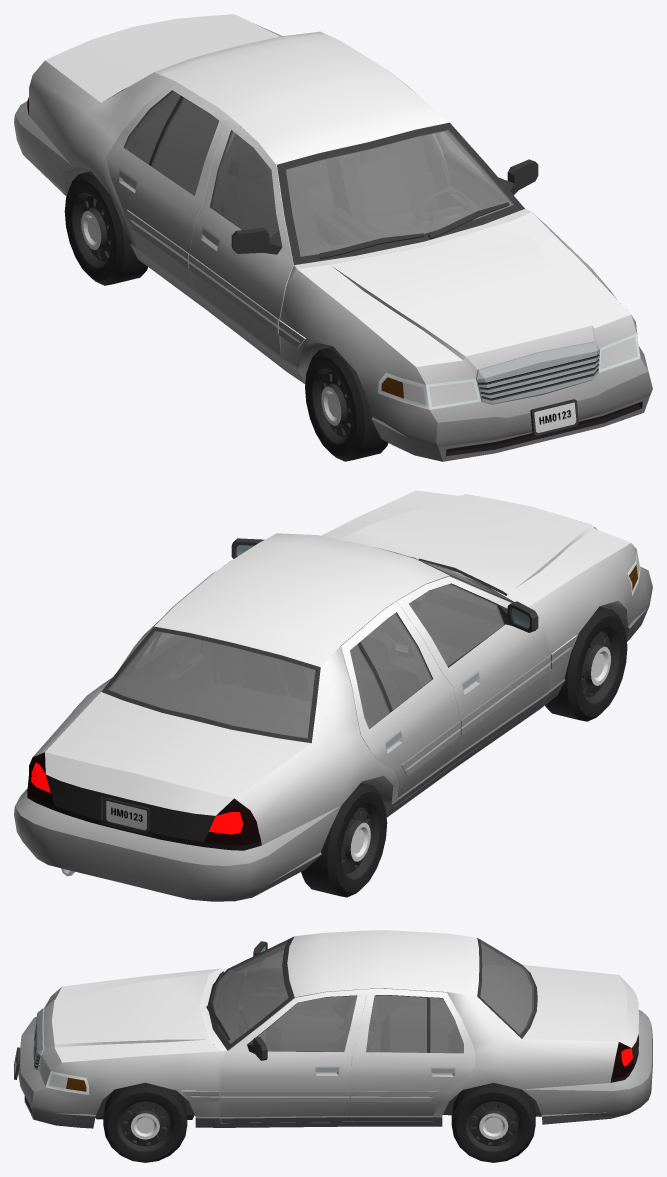
File: carro_sedan_aberto.fbx
3 renders of one model, top to bottom at view 1: azimuth 30°, elevation 25°; view 2: azimuth 150°, elevation 25°; view 3: azimuth 270°, elevation 25°, orthographic. The views are drawn at different scales.
Visible parts, largest first — view 1: Base_Car, Car_hood, CDoor_FR, CDoor_BR, Car_trunk, C_WheelFR, C_Wheels_B, CDoor_FL, Car_Steering_Wheel; view 2: Base_Car, Car_trunk, Car_hood, CDoor_FR, CDoor_BR, C_Wheels_B, C_WheelFR, CDoor_BL; view 3: Base_Car, CDoor_FL, CDoor_BL, Car_hood, Car_trunk, C_WheelFL, C_Wheels_B, CDoor_FR, CDoor_BR.
Part boxes in pixels (left/top/right/bottom): Base_Car: left=14, top=16, right=652, bottom=461; Car_hood: left=297, top=212, right=630, bottom=366; CDoor_FR: left=188, top=118, right=293, bottom=363; CDoor_BR: left=106, top=82, right=230, bottom=296; Car_trunk: left=45, top=14, right=279, bottom=102; C_WheelFR: left=305, top=347, right=388, bottom=461; C_Wheels_B: left=64, top=171, right=148, bottom=285; CDoor_FL: left=399, top=80, right=538, bottom=211; Car_Steering_Wheel: left=415, top=189, right=472, bottom=227; Base_Car: left=14, top=490, right=652, bottom=901; Car_trunk: left=45, top=692, right=310, bottom=846; Car_hood: left=321, top=490, right=630, bottom=604; CDoor_FR: left=396, top=576, right=550, bottom=765; CDoor_BR: left=341, top=602, right=460, bottom=806; C_Wheels_B: left=301, top=783, right=387, bottom=897; C_WheelFR: left=545, top=606, right=627, bottom=721; CDoor_BL: left=134, top=571, right=215, bottom=684; Base_Car: left=14, top=930, right=652, bottom=1128; CDoor_FL: left=220, top=989, right=366, bottom=1122; CDoor_BL: left=350, top=989, right=475, bottom=1121; Car_hood: left=52, top=968, right=219, bottom=1062; Car_trunk: left=522, top=964, right=638, bottom=1067; C_WheelFL: left=103, top=1082, right=187, bottom=1162; C_Wheels_B: left=451, top=1083, right=535, bottom=1162; CDoor_FR: left=237, top=941, right=338, bottom=1028; CDoor_BR: left=374, top=996, right=441, bottom=1029.
Bounding box in the file's own units: 84.97 × 59.75 × 213.
9 materials, 3 textured.
